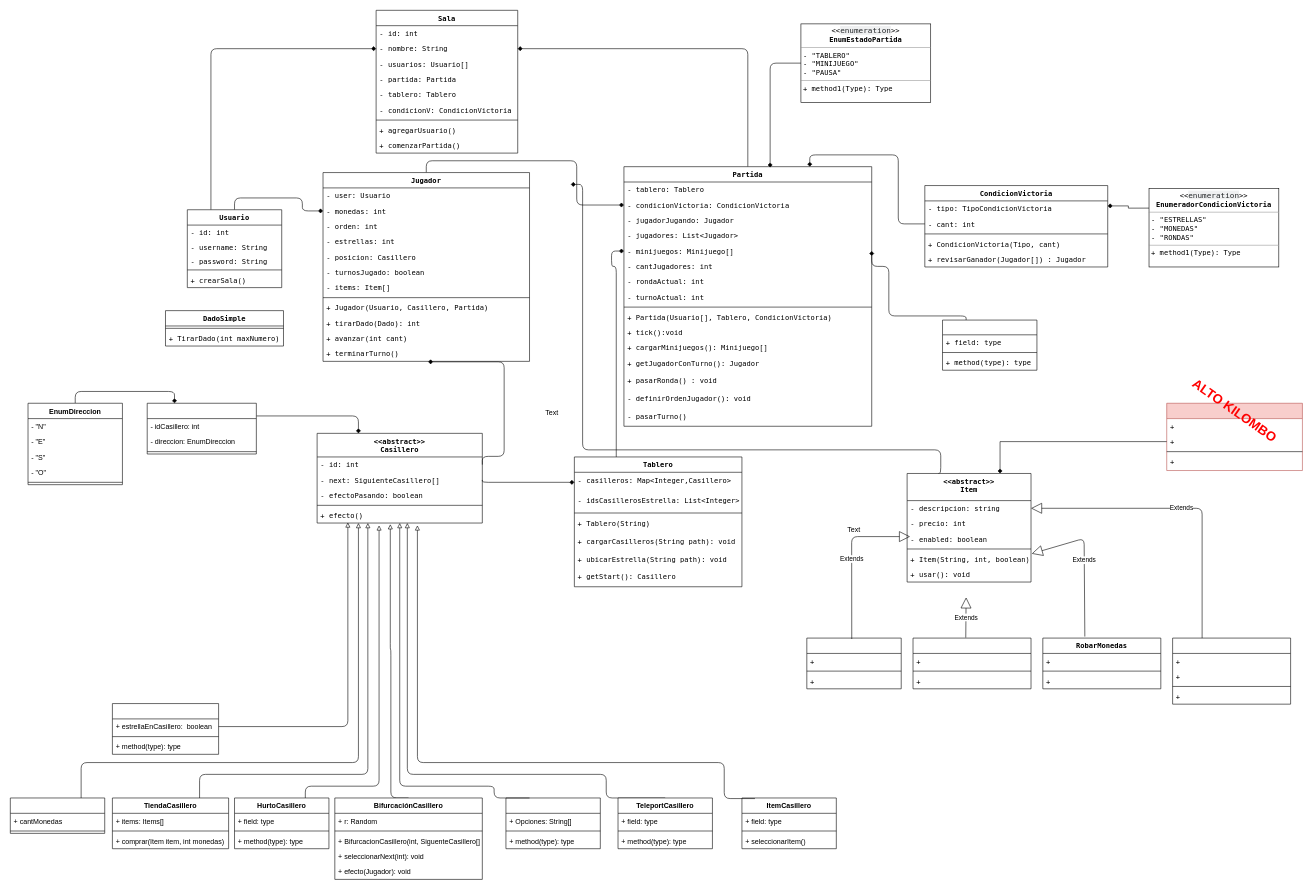
The diagram is 1313 pixels wide and 891 high, and some of its shapes have lost their labels. The box of each missing label's shape, as (x1, y1, x2, y2) in pixels:
+5 al dado: (1172, 637, 1291, 704)
-2 a +2 casilleros a rival: (1166, 403, 1302, 471)
DadoDoble: (806, 637, 901, 689)
DadoSeleccionarNúmero: (912, 637, 1031, 689)
EstrellaCasillero: (112, 703, 219, 754)
Minijuego: (942, 319, 1037, 370)
MonedaCasillero: (10, 797, 105, 833)
RandomMaloCasillero: (505, 797, 600, 849)
SiguienteCasillero: (147, 403, 256, 454)
